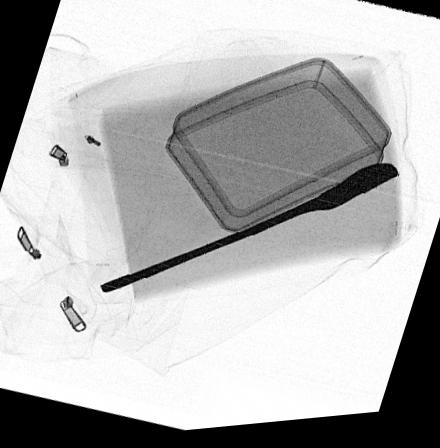Wrench: (98, 168, 398, 297)
